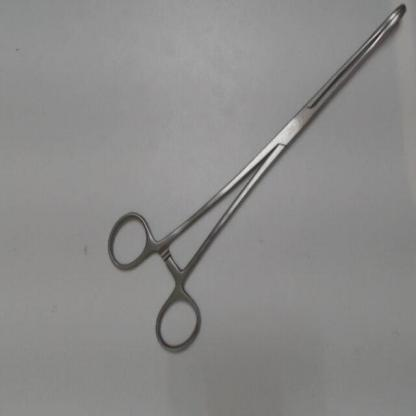Sponge Forceps: (100, 0, 415, 362)
